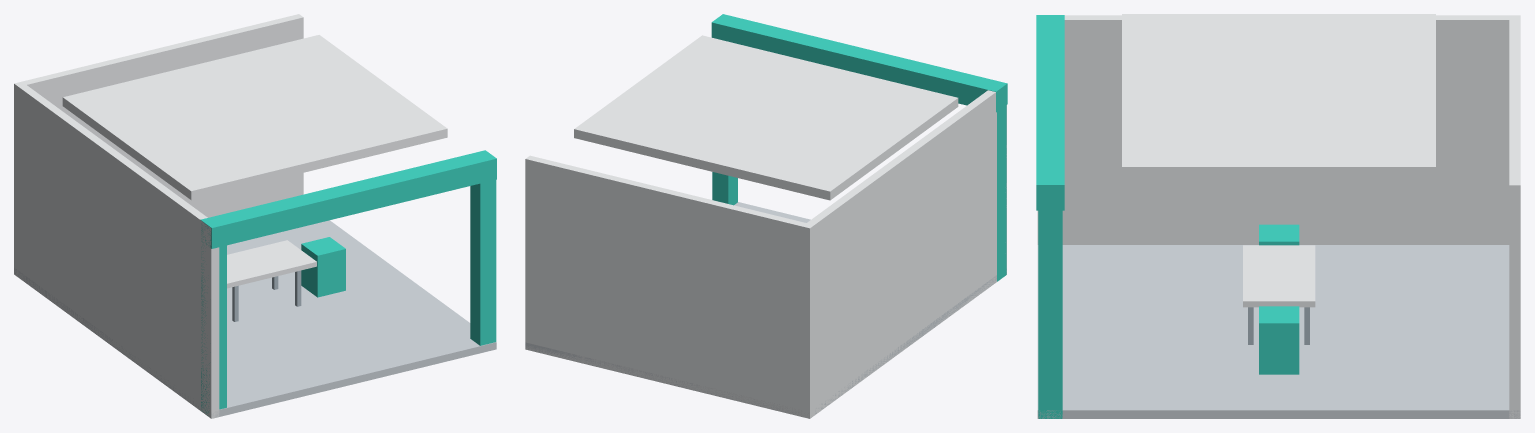
3 renders of one model, left to right at view 1: azimuth 30°, elevation 25°; view 2: azimuth 150°, elevation 25°; view 3: azimuth 270°, elevation 25°, orthographic. The views are drawn at different scales.
Parts seen in each view (by area): view 1: Exhibition Booth Concept; view 2: Exhibition Booth Concept; view 3: Exhibition Booth Concept.
Boxes of the visible parts, box(x1,y1,x2,y2) form: Exhibition Booth Concept: box(14, 14, 496, 418); Exhibition Booth Concept: box(525, 14, 1007, 418); Exhibition Booth Concept: box(1036, 14, 1520, 418).
Bounding box in the file's own units: 5 × 3.34 × 6.02.
